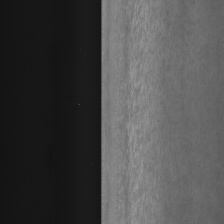silk_spot: (117, 18, 150, 218)
